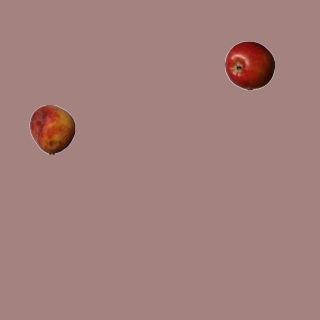Apple Braeburn: (224, 40, 274, 90)
Peach: (27, 104, 77, 154)
